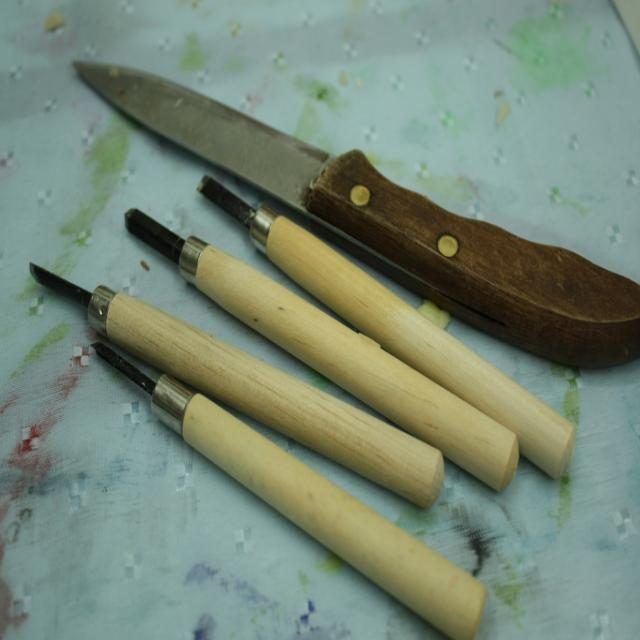Knife: (75, 63, 640, 368)
